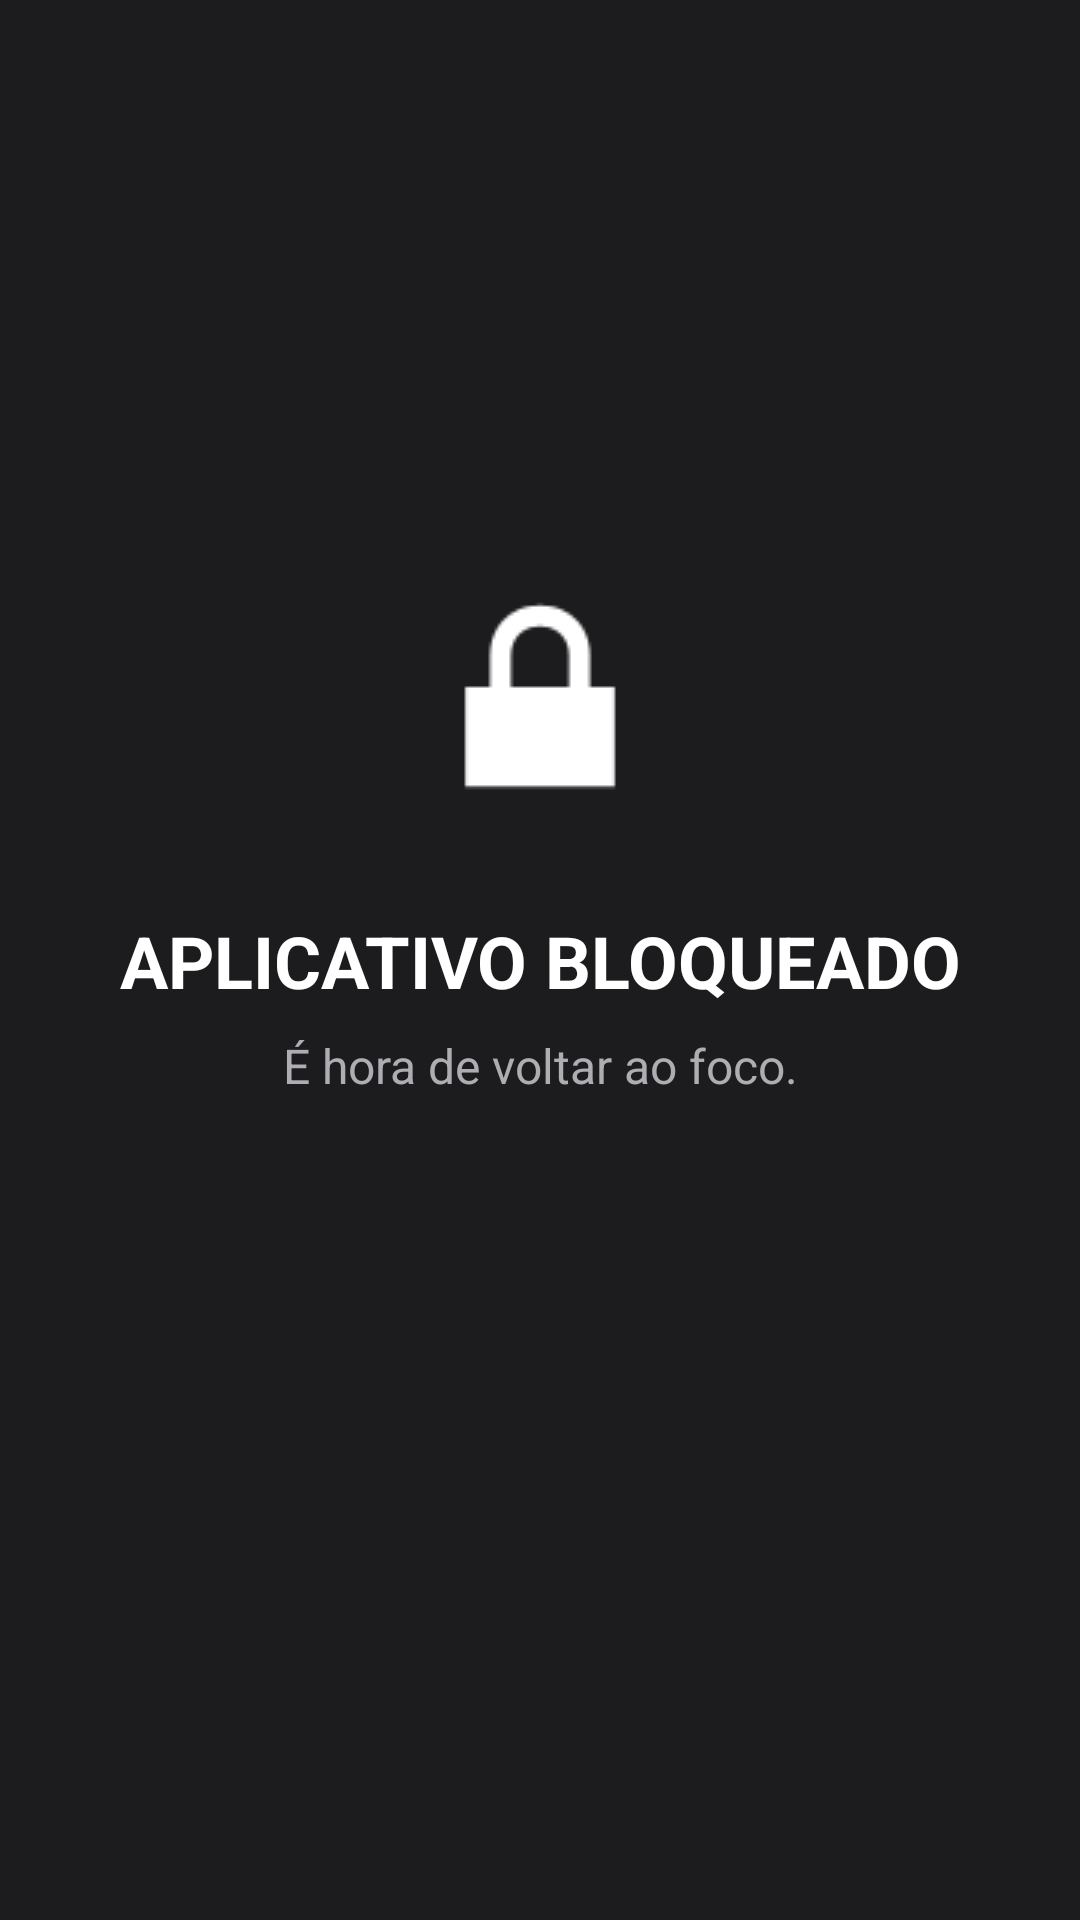

Screen size 1080px x 1920px. Icon name, then its center in pixels as (x=x, y=y):
lock: (x=540, y=696)
